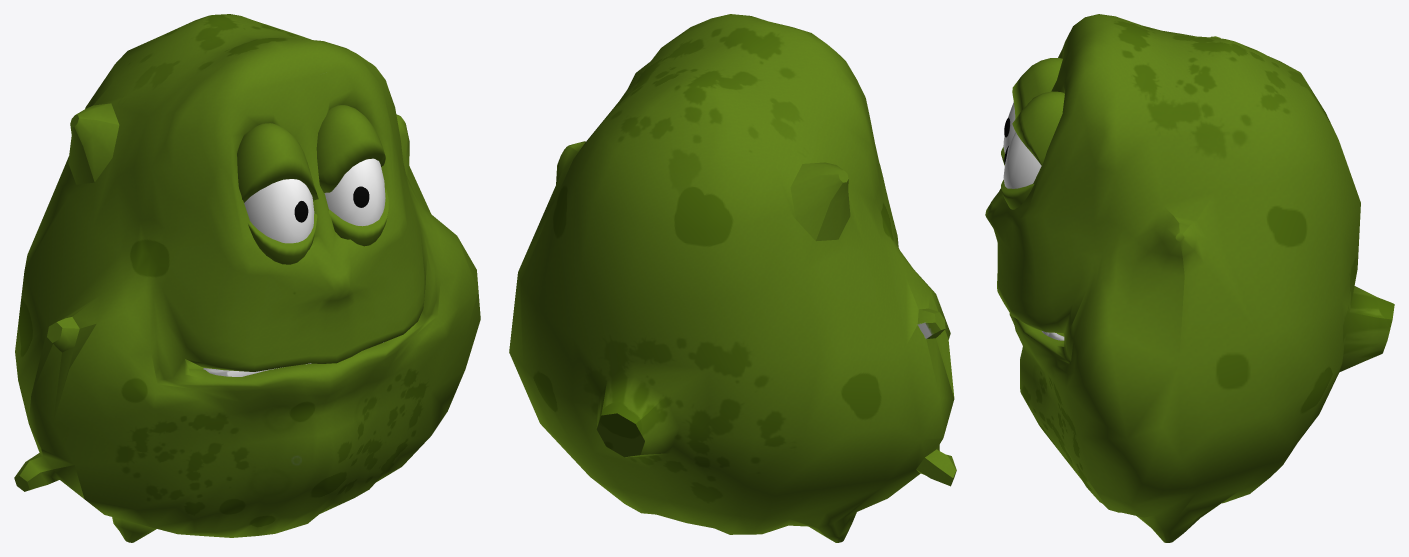
File: Viruss 01.fbx
3 renders of one model, left to right at view 1: azimuth 30°, elevation 25°; view 2: azimuth 150°, elevation 25°; view 3: azimuth 270°, elevation 25°, orthographic. The views are drawn at different scales.
Parts seen in each view (by area): view 1: Viruss01; view 2: Viruss01; view 3: Viruss01.
Part boxes in pixels (<box>): Viruss01: <box>14,14,480,542</box>; Viruss01: <box>509,14,956,542</box>; Viruss01: <box>985,14,1394,542</box>.
Size of the model in its own units: 7.11 by 7.44 by 5.98.
Materials: 1 (1 with a texture image).
